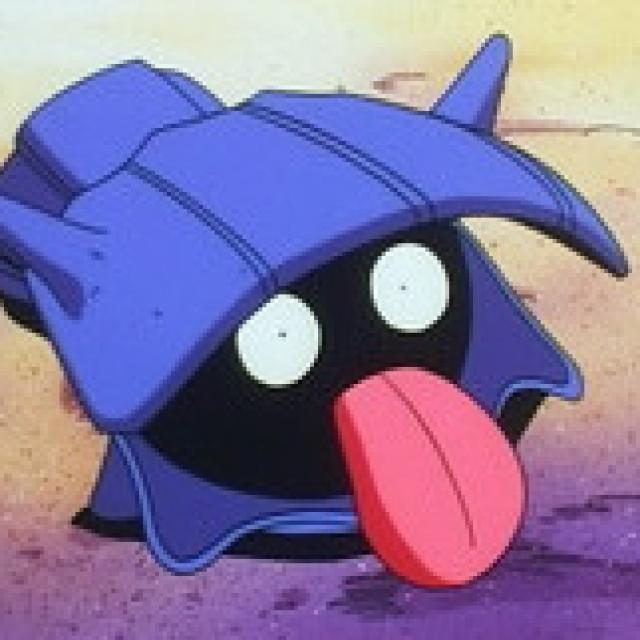Shellder: (7, 31, 635, 586)
